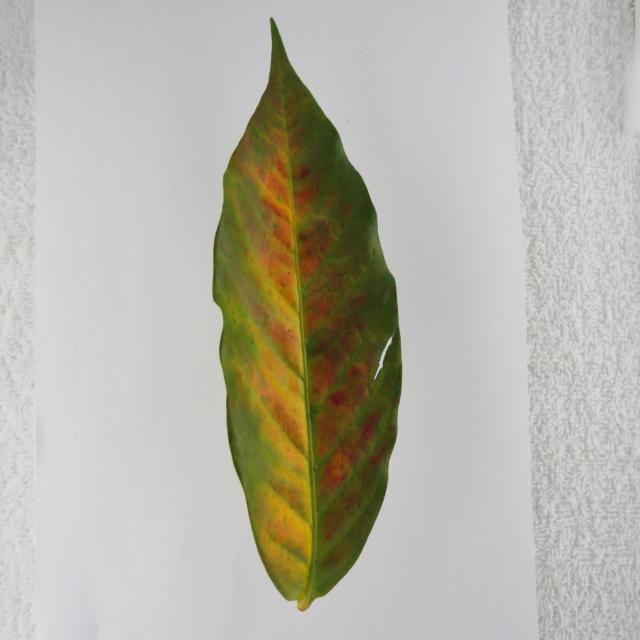DeficienciaNutricional-Fosforo: (212, 20, 401, 610)
